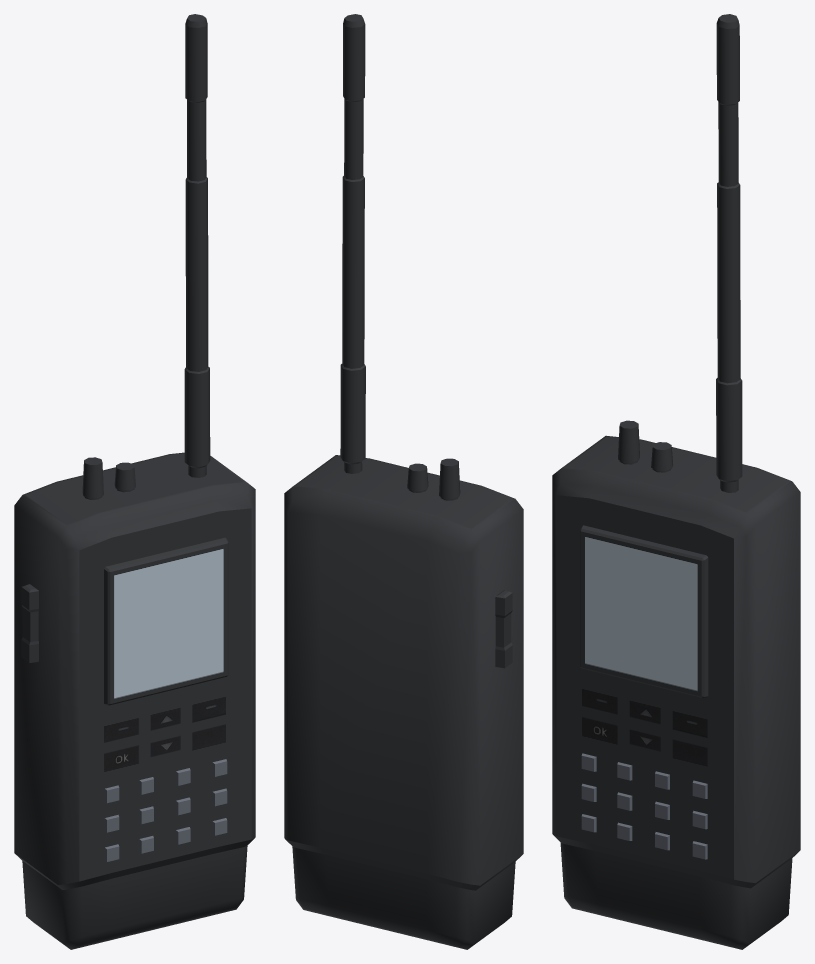
The model's file is xd-kzs-chj.FBX.
3 renders of one model, left to right at view 1: azimuth 30°, elevation 25°; view 2: azimuth 150°, elevation 25°; view 3: azimuth 330°, elevation 25°, orthographic. The views are drawn at different scales.
Parts seen in each view (by area): view 1: xd-kzs-chj; view 2: xd-kzs-chj; view 3: xd-kzs-chj.
Boxes of the visible parts, x1=… form: xd-kzs-chj: x1=14, y1=14, x2=255, y2=949; xd-kzs-chj: x1=284, y1=14, x2=523, y2=949; xd-kzs-chj: x1=552, y1=14, x2=800, y2=949.
Size of the model in its own units: 7.95 by 32.71 by 4.31.
